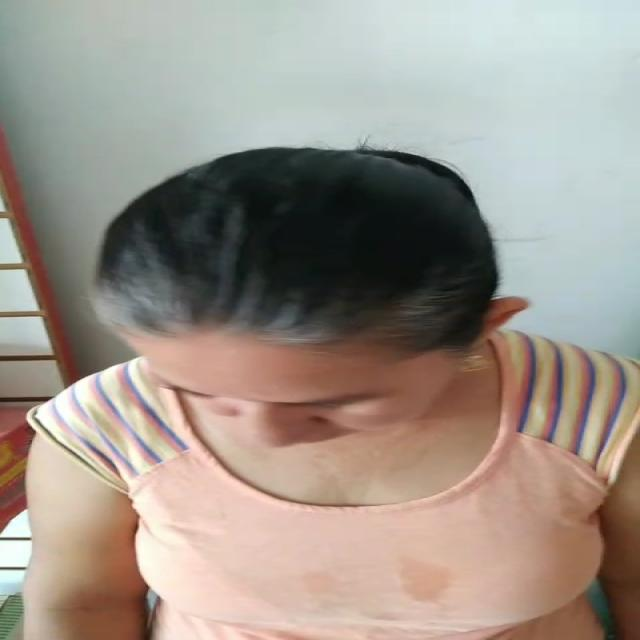9_cabeza_baja: (96, 140, 527, 449)
